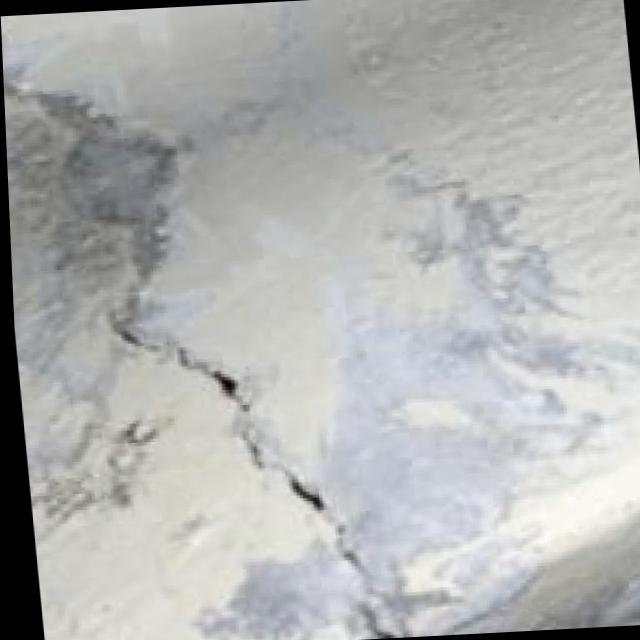Crack: (34, 293, 393, 640)
